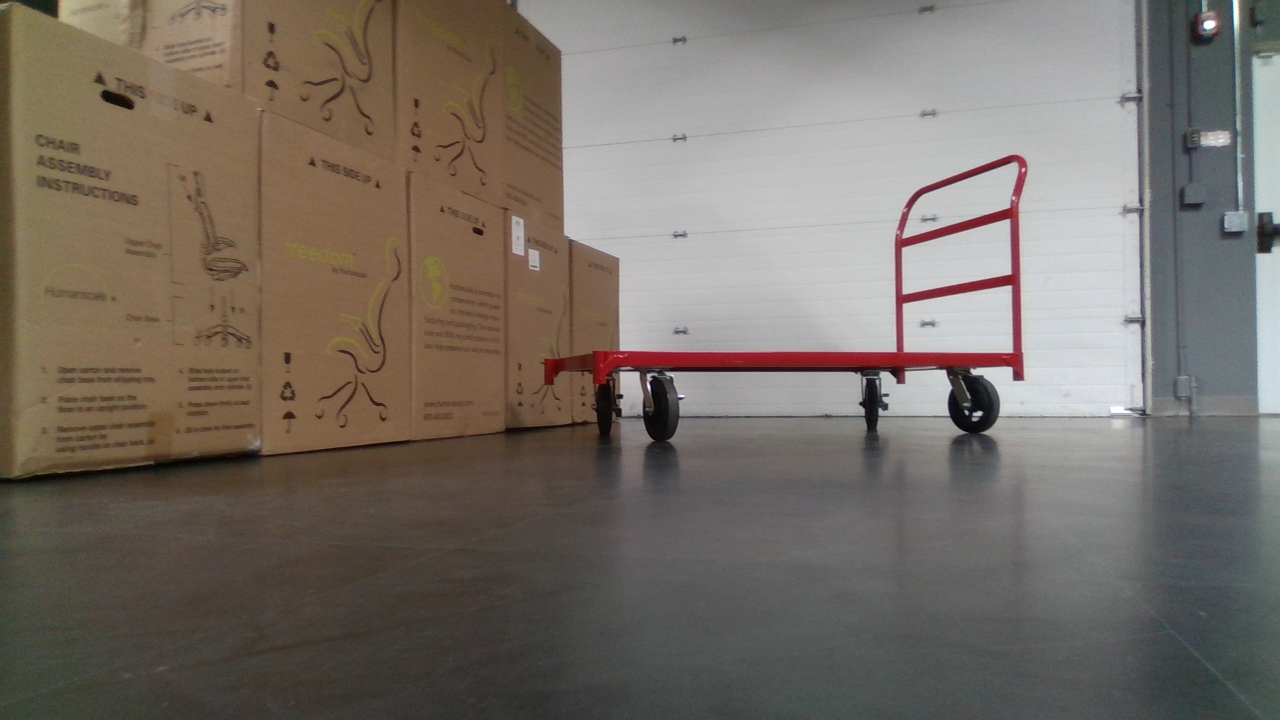Dolly: (542, 154, 1028, 445)
Wheel: (945, 374, 1002, 433), (639, 374, 682, 442), (591, 382, 618, 436), (857, 382, 886, 432)
